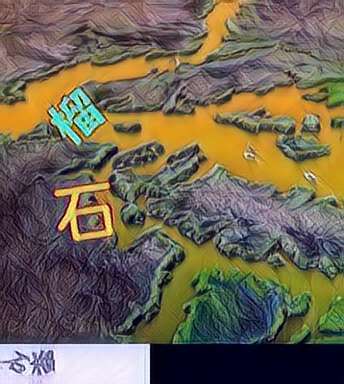C1F1: (44, 81, 107, 148)
CAAF: (52, 175, 115, 242)
